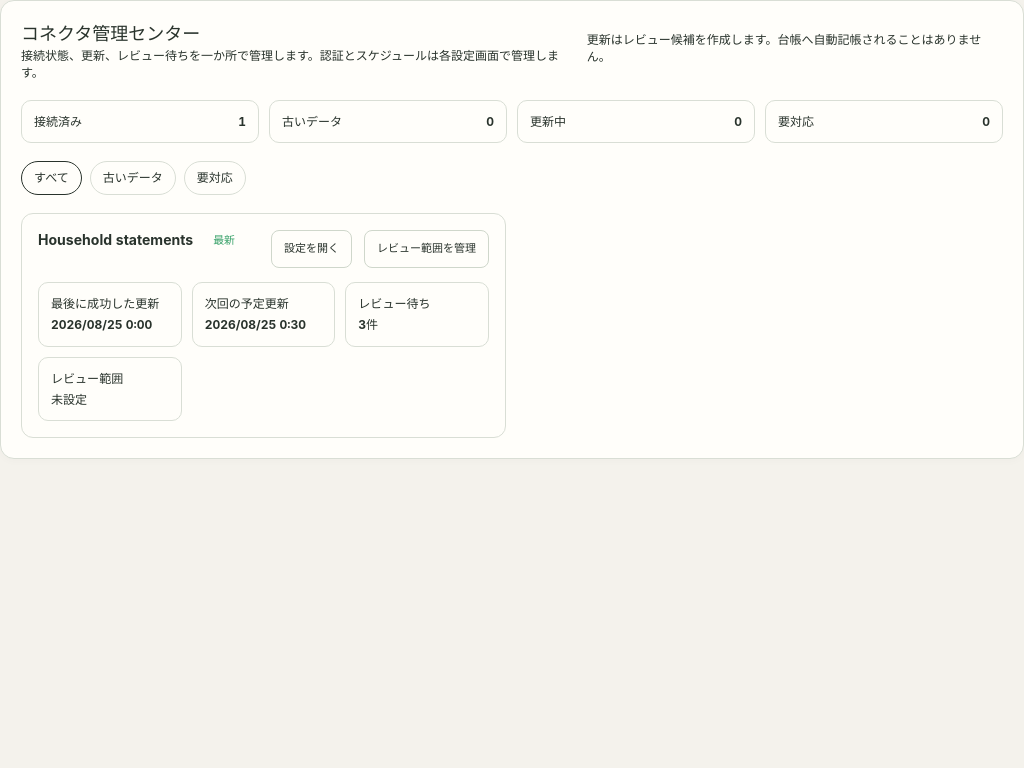
Test case: ConnectorControlCenter › never auto-selects an account or parser for a new binding
Click the button "レビュー範囲を管理" at [426, 249], box [364, 230, 489, 268]
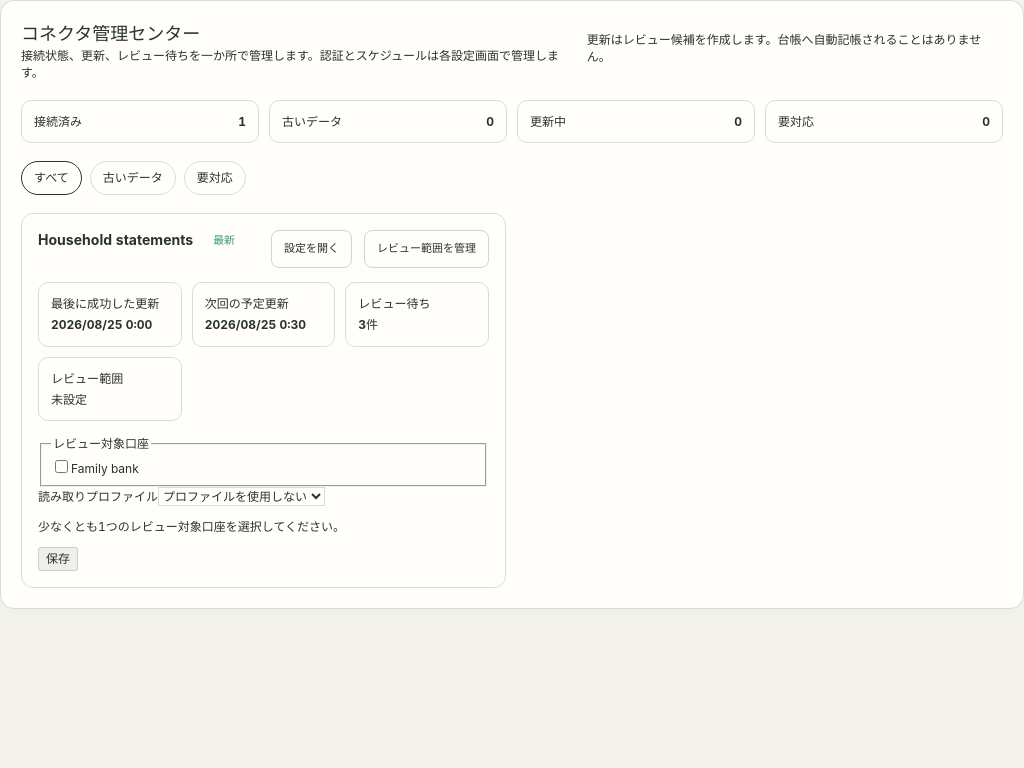
Expected: the checkbox labelled "Family bank" is not checked, [55, 460, 68, 473]
Expected: the dropdown labelled "読み取りプロファイル" shows "プロファイルを使用しない", [158, 487, 325, 506]
Expected: the button "保存" is disabled, [38, 547, 78, 571]
